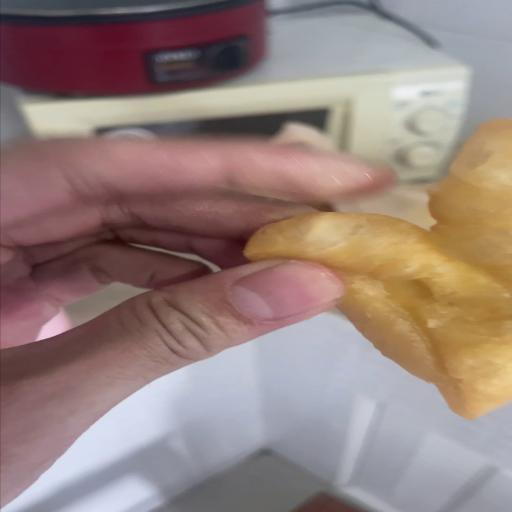street_golden_defect: (244, 117, 512, 420)
